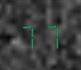seven: (19, 20, 39, 50), (40, 20, 60, 49)
